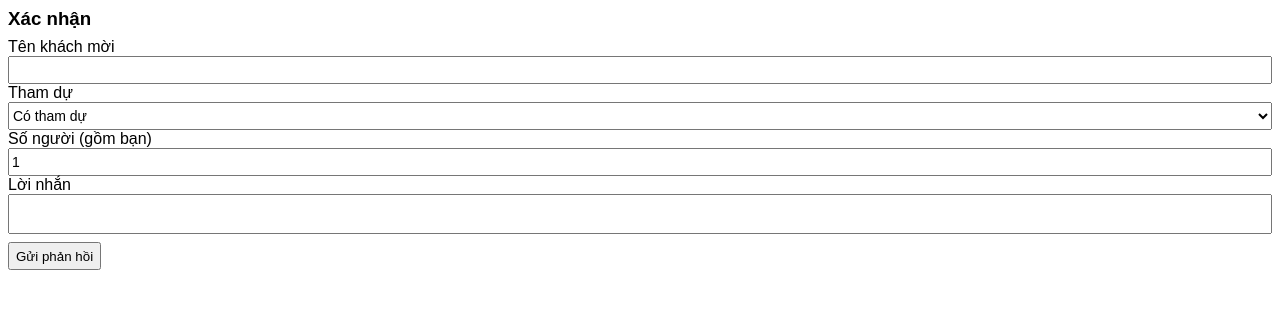
Scenario: RSVP failed requests › keeps a submitted payload across close/unpublish polling and safely replays it
The width and height of the screenshot is (1280, 313).
Expected: the button "Gửi phản hồi" is enabled, [8, 242, 101, 270]
Type "Khách" into the field labelled "Tên khách mời".
click(640, 70); type("Khách")  # box [8, 56, 1272, 84]
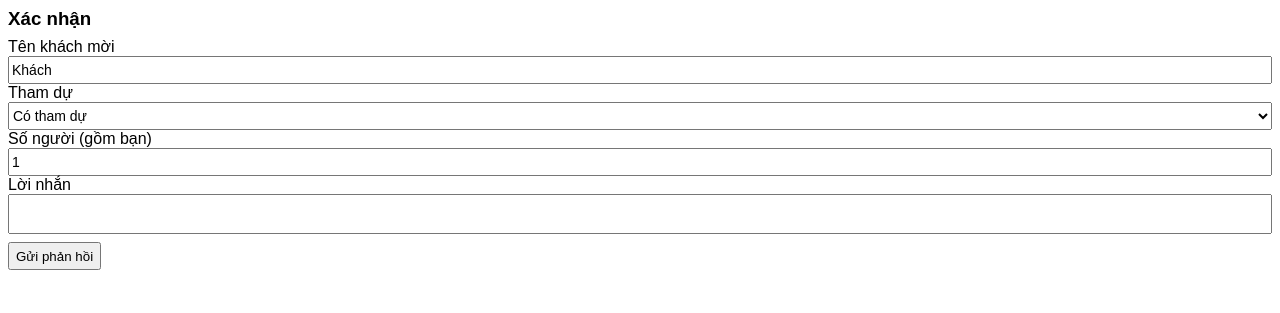
Click the button "Gửi phản hồi".
click(55, 256)  # box [8, 242, 101, 270]
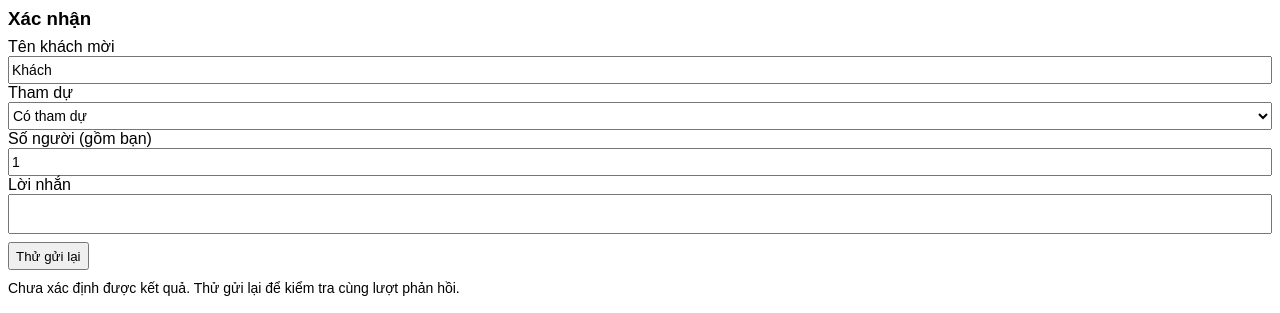
Result: the message "Chưa xác định được kết quả. Thử gửi lại để kiểm tra cùng lượt phản hồi." is shown at [8, 280, 460, 296]
Click the button "Thử gửi lại".
click(48, 256)  # box [8, 242, 88, 270]
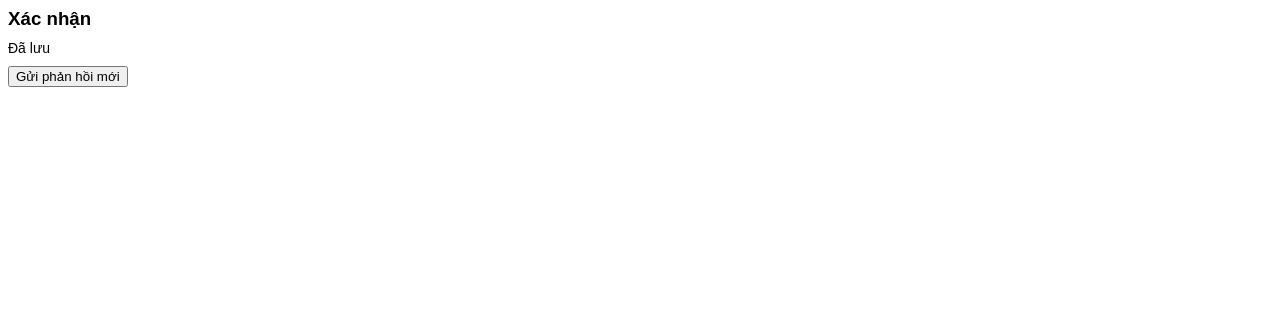
Result: the text "Đã lưu" is shown at [8, 40, 50, 56]
